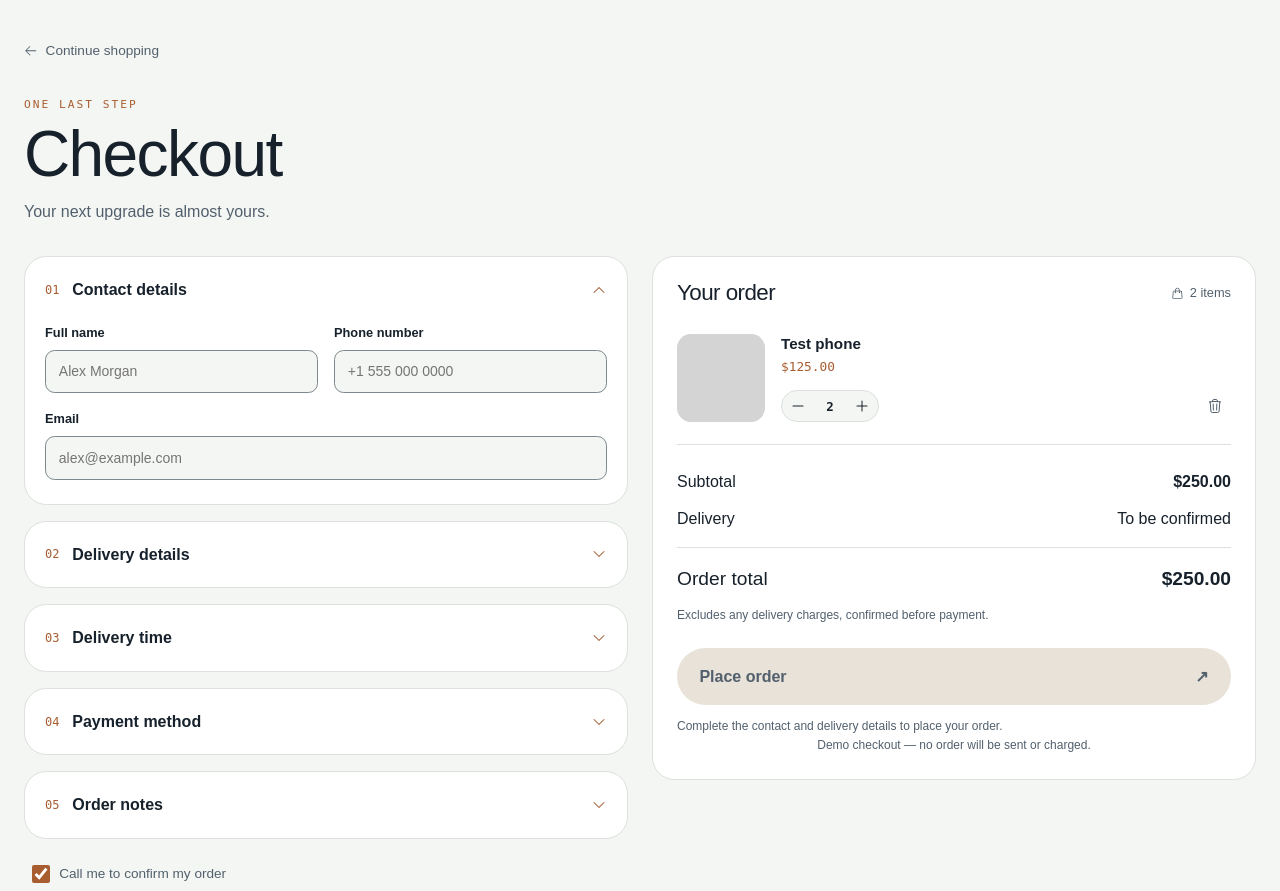
it: shows accessible inline errors while typing and clears them after correction
Type "Al" into the field labelled "Full name".
click(182, 371); type("Al")  # box [45,350,318,393]
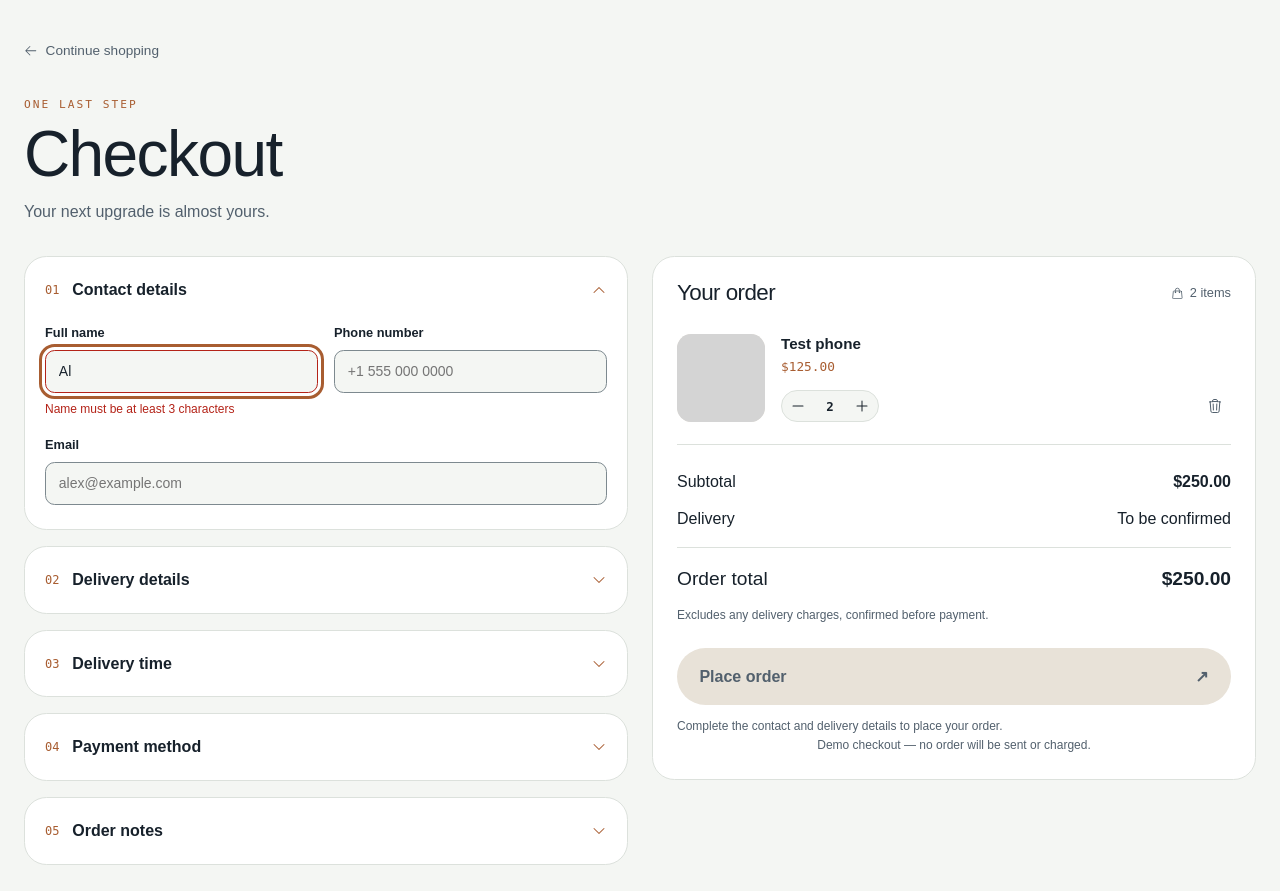
Result: the text "Name must be at least 3 characters" is shown at [45,402,234,416]
Type "invalid" into the field labelled "Email".
click(326, 483); type("invalid")  # box [45,462,607,505]
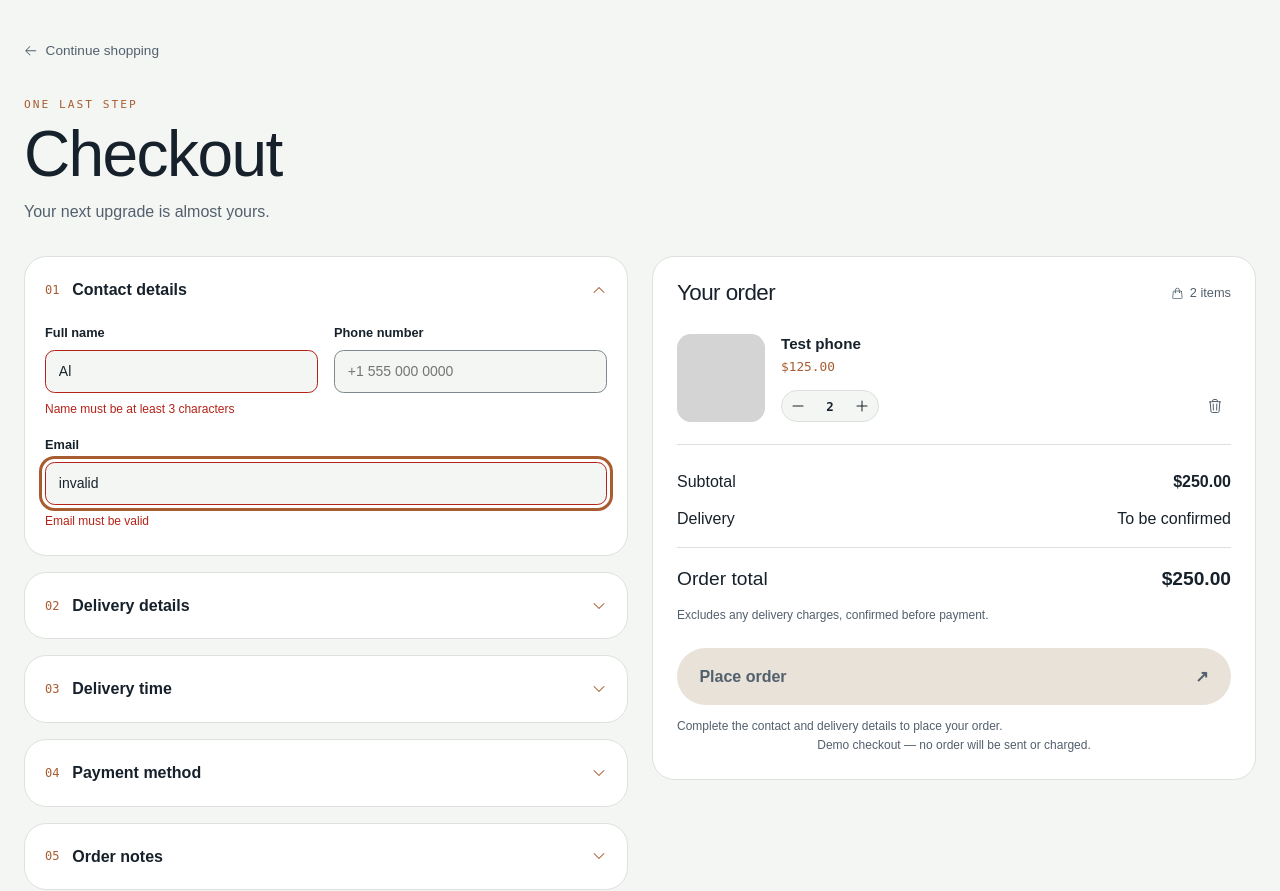
Result: the text "Email must be valid" is shown at [45,514,149,528]
Type "abcdefg" into the field labelled "Phone number".
click(470, 371); type("abcdefg")  # box [334,350,607,393]
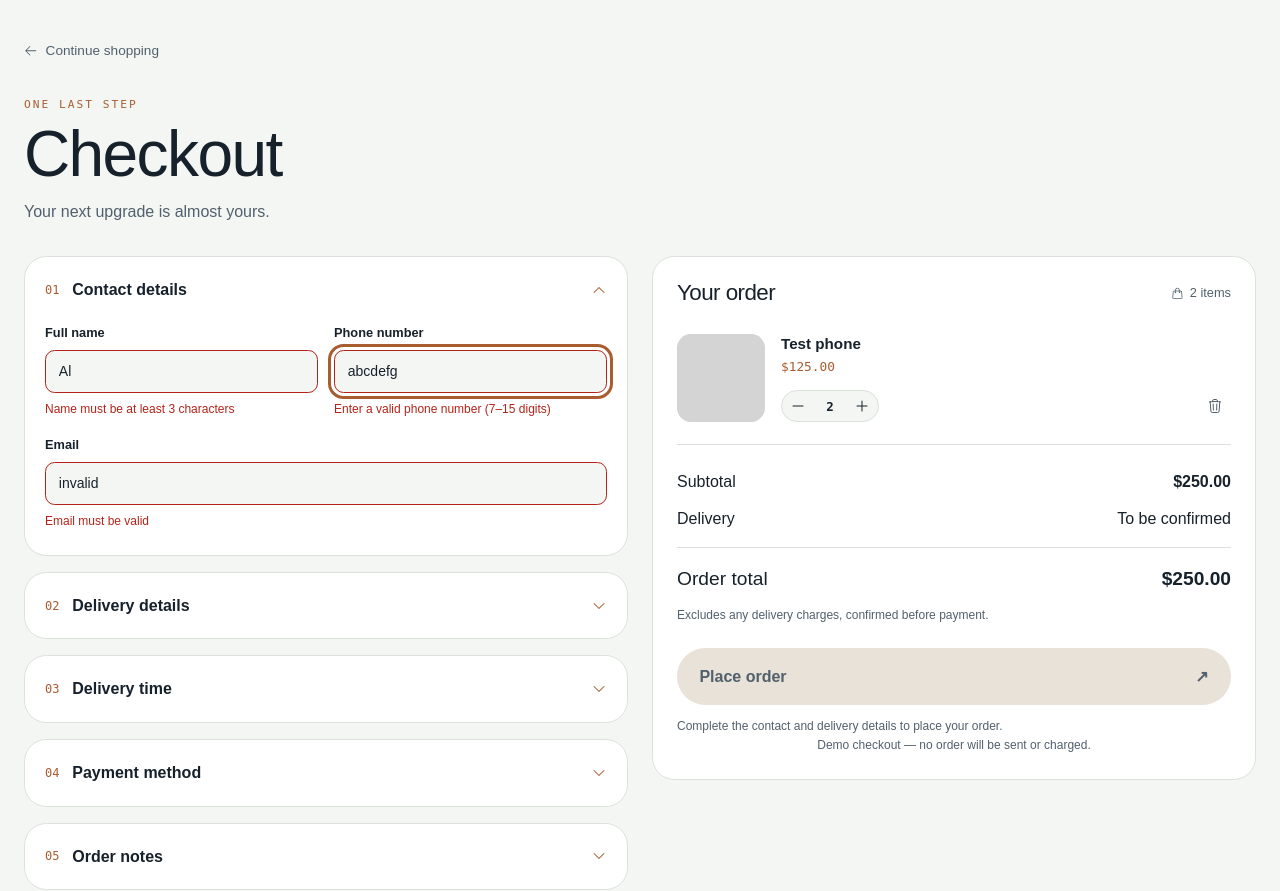
Result: the text "Enter a valid phone number (7–15 digits)" is shown at [334,402,551,416]
Replace the text in the field labelled "Phone number" with "+380 (67) 123-45-67" at (470, 371), box [334,350,607,393]
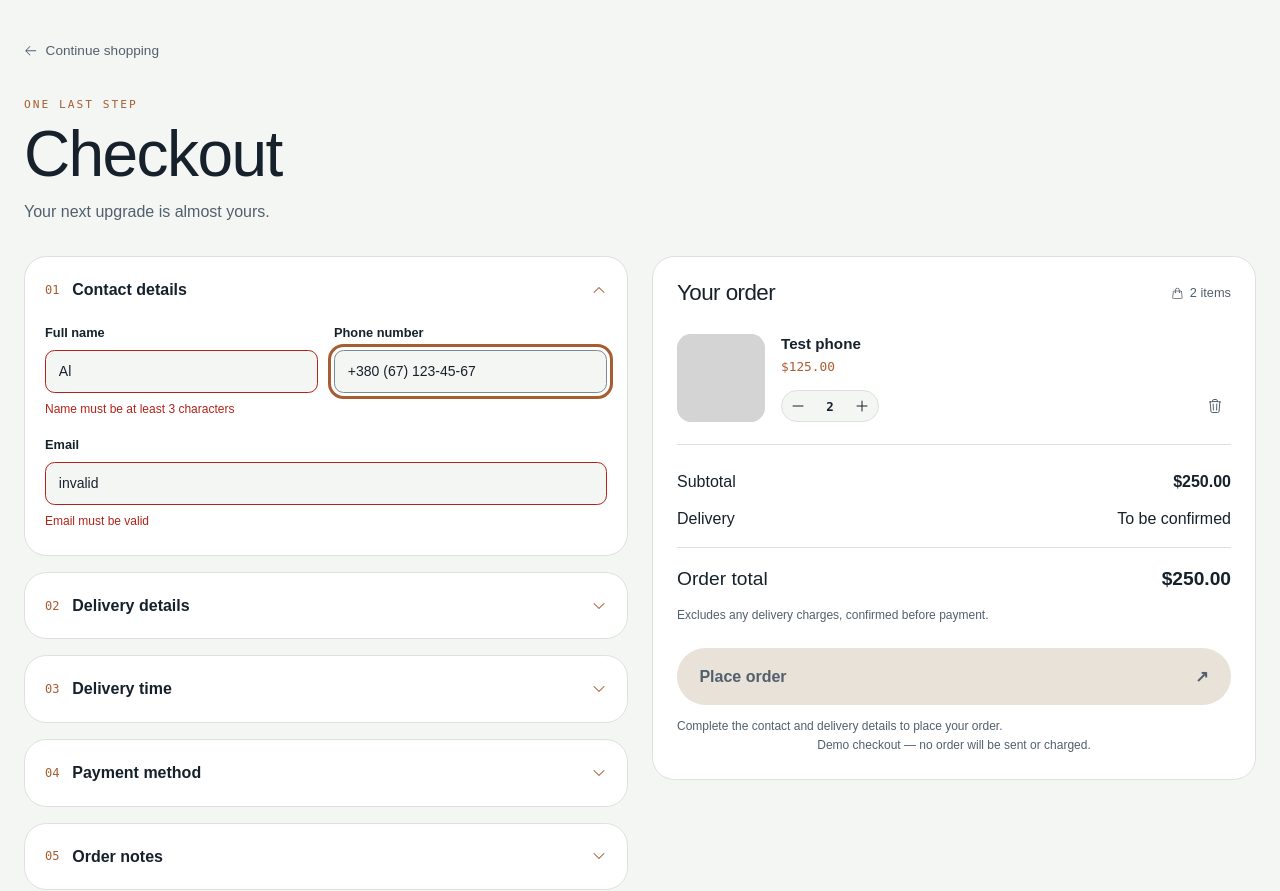
Result: the text "Enter a valid phone number (7–15 digits)" is gone
